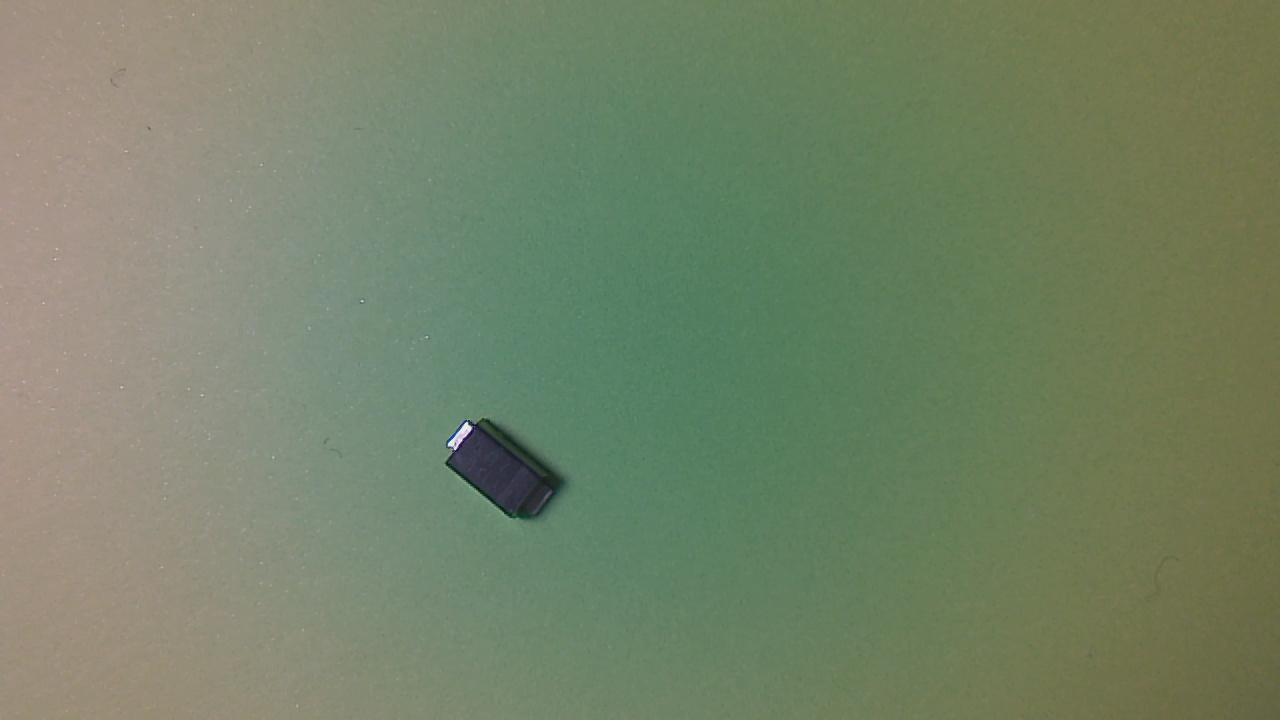Diode: (446, 424, 564, 526)
